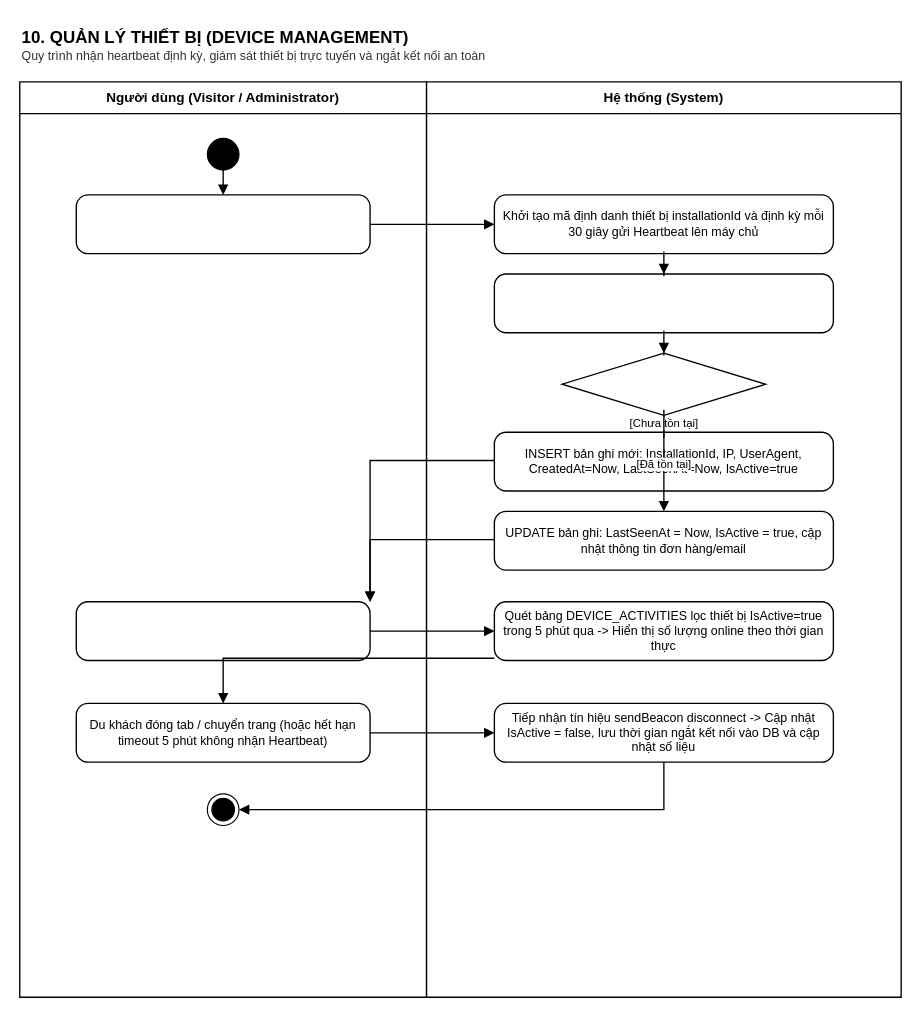
The diagram is 922 pixels wide and 1017 high, and some of its shapes have lost their labels. The centre of each missing label's shape, as x and y in pixels:
Du khách mở ứng dụng ZooGuide trên trình duyệt thiết bị di động: the point at 222,224
Quản trị viên truy cập màn hình Giám sát thiết bị để theo dõi vận hành: the point at 222,630
Thiết bị đã tồn tại trong DB?: the point at 663,383
Tìm kiếm bản ghi thiết bị theo InstallationId trong bảng DEVICE_ACTIVITIES: the point at 663,303
